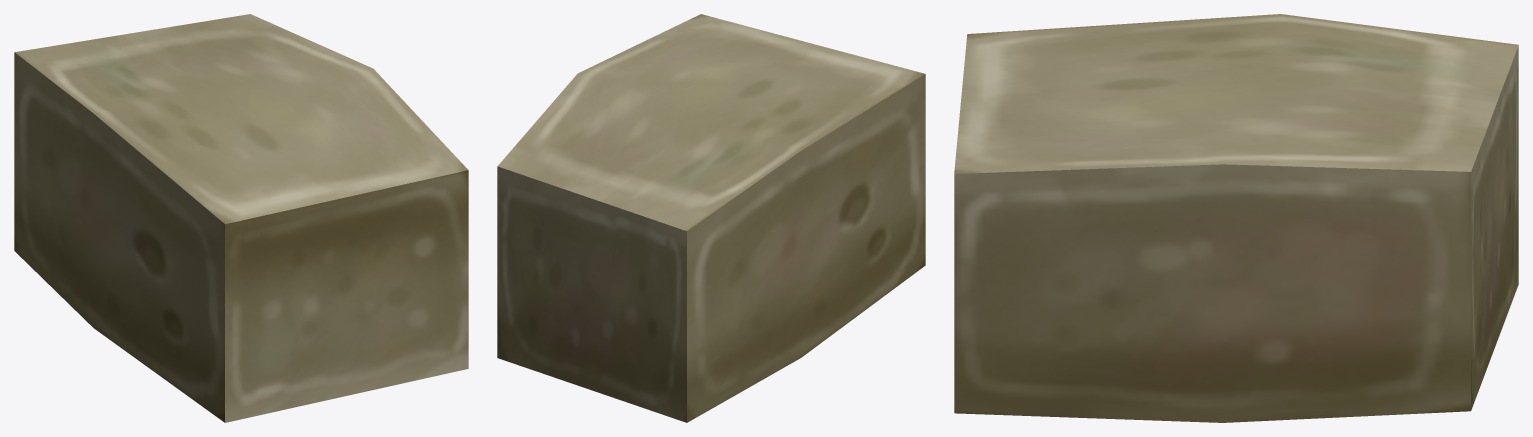
File: wallStone_Brick.fbx
3 renders of one model, left to right at view 1: azimuth 30°, elevation 25°; view 2: azimuth 150°, elevation 25°; view 3: azimuth 270°, elevation 25°, orthographic. The views are drawn at different scales.
Visible parts, largest first — view 1: wall_stone_brick; view 2: wall_stone_brick; view 3: wall_stone_brick.
Boxes of the visible parts, left/top/right/bottom form: wall_stone_brick: left=14, top=14, right=468, bottom=422; wall_stone_brick: left=497, top=14, right=925, bottom=422; wall_stone_brick: left=954, top=14, right=1518, bottom=422.
Bounding box in the file's own units: 57.16 × 45.84 × 90.7.
